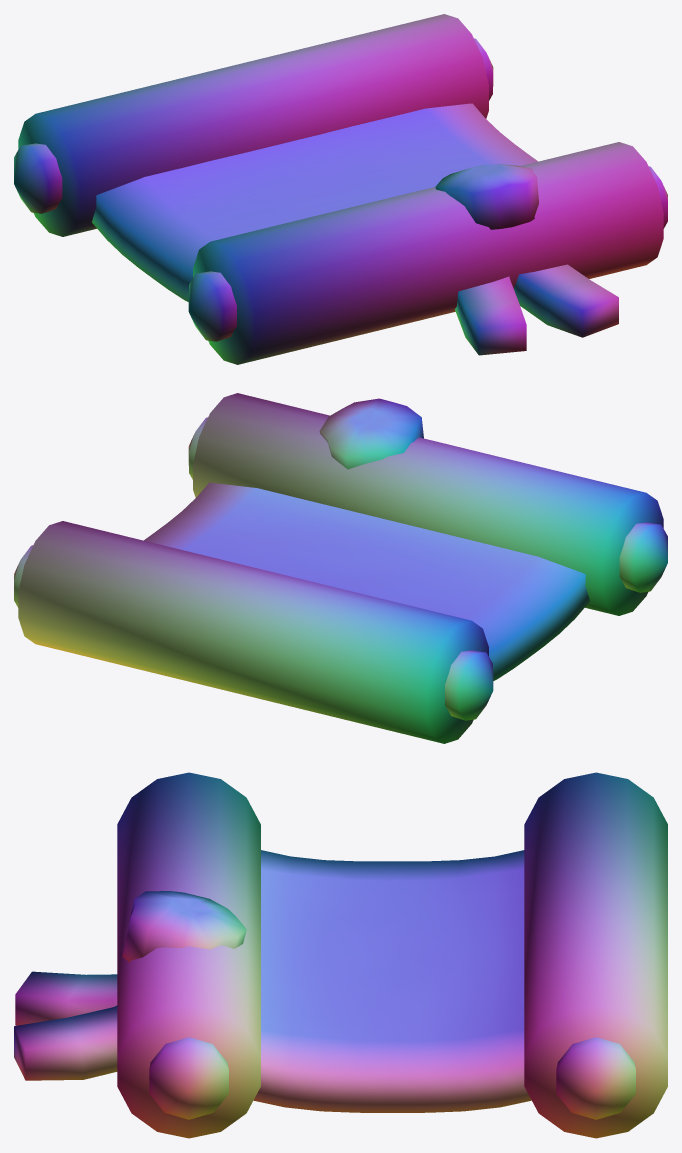
The model's file is SM_Pickup_Scroll_ID.fbx.
The picture shows the model from 3 angles, top to bottom: view 1: azimuth 30°, elevation 25°; view 2: azimuth 150°, elevation 25°; view 3: azimuth 270°, elevation 25°; orthographic projection. The views are drawn at different scales.
Visible parts, largest first — view 1: SM_Pickup_Scroll_ID; view 2: SM_Pickup_Scroll_ID; view 3: SM_Pickup_Scroll_ID.
Boxes of the visible parts, x1,y1,x2,y2 form: SM_Pickup_Scroll_ID: (14,14,667,364); SM_Pickup_Scroll_ID: (14,393,667,743); SM_Pickup_Scroll_ID: (14,772,667,1138).
Size of the model in its own units: 0.369 by 0.0963 by 0.3743.
